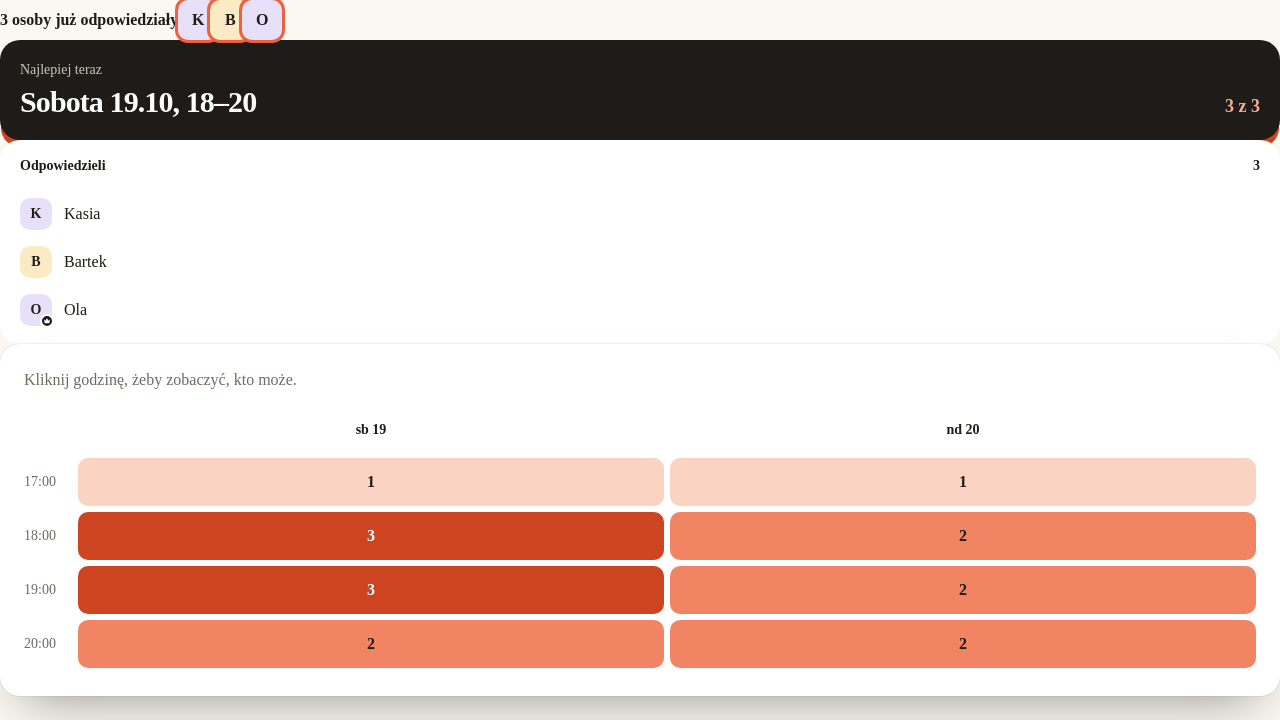
Test: Results › rings a tapped hour and shows who can and who can't in a sheet, and closes again
The image size is (1280, 720).
Click the button named "nd 20, 18:00, 2 z 3 może" at (963, 536), box x1=670 y1=512 x2=1256 y2=560
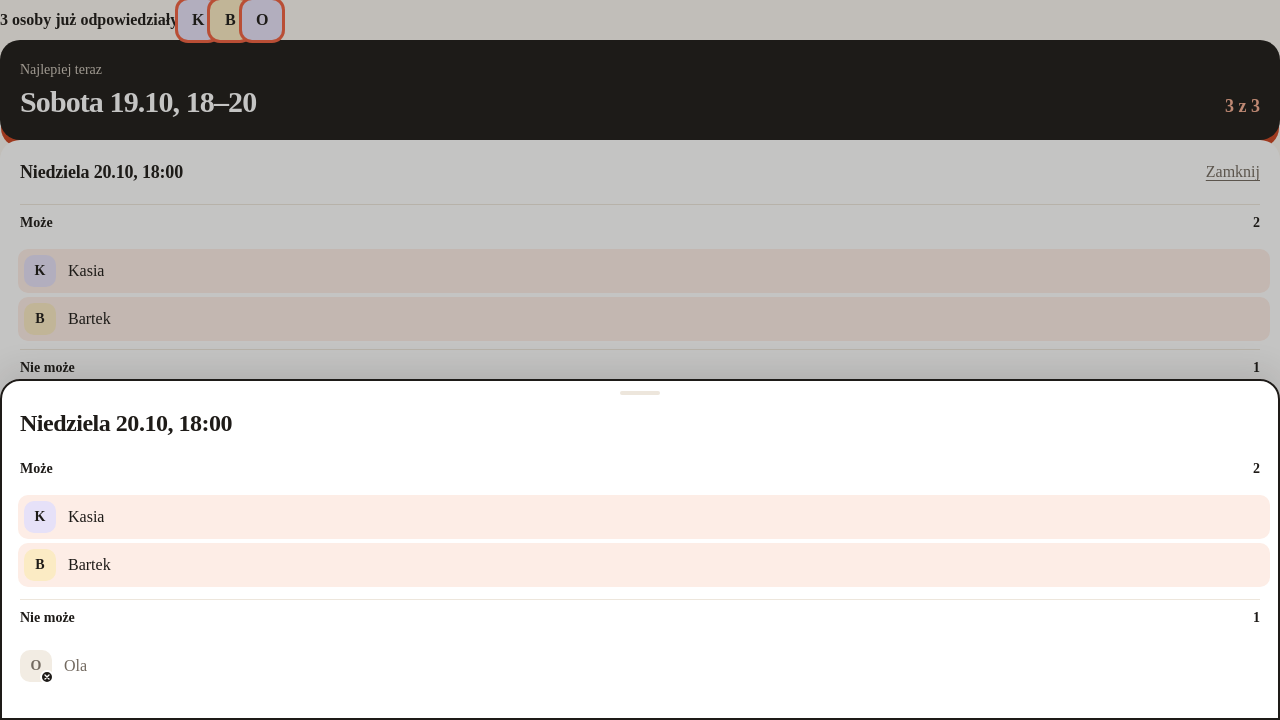
Result: the list items read "KKasia", "BBartek", in this order at x1=18 y1=495 x2=1270 y2=539; x1=18 y1=543 x2=1270 y2=587
Result: the list items read "OOla, organizator, nie może", in this order at x1=19 y1=650 x2=165 y2=686
Click the dialog "Niedziela 20.10, 18:00" at (640, 550), box x1=0 y1=379 x2=1279 y2=719
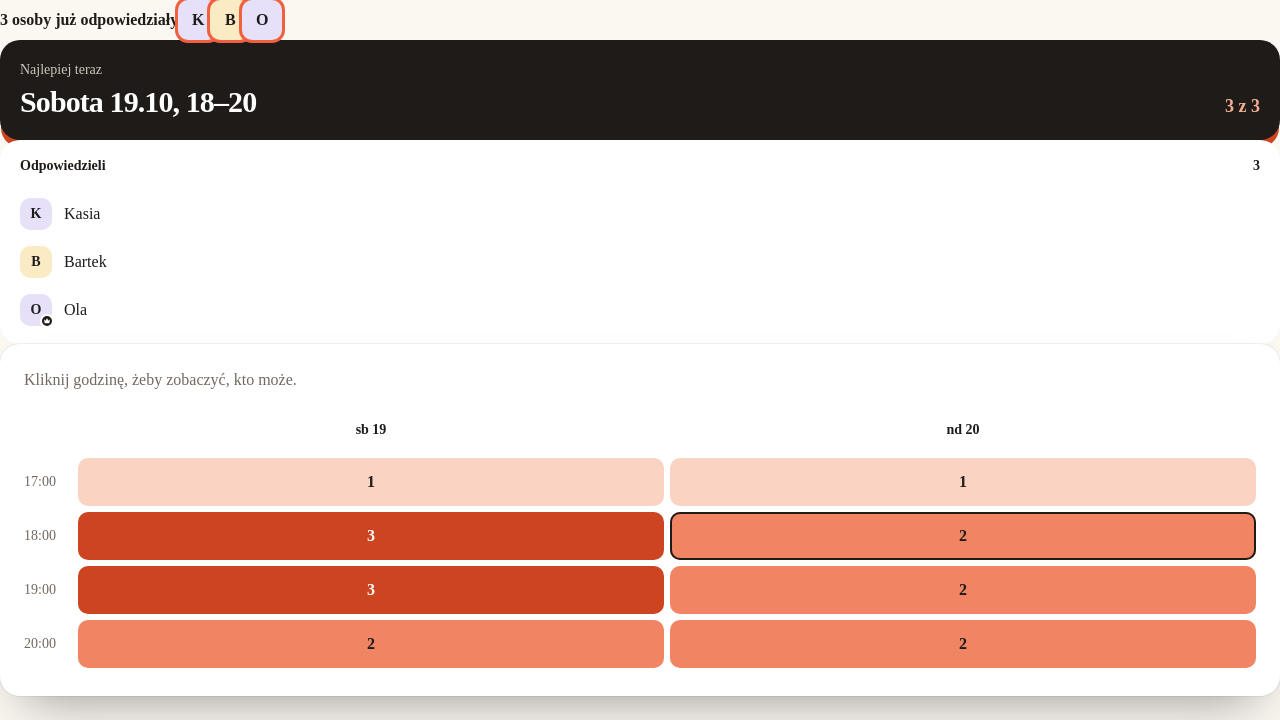
Result: the dialog is gone
